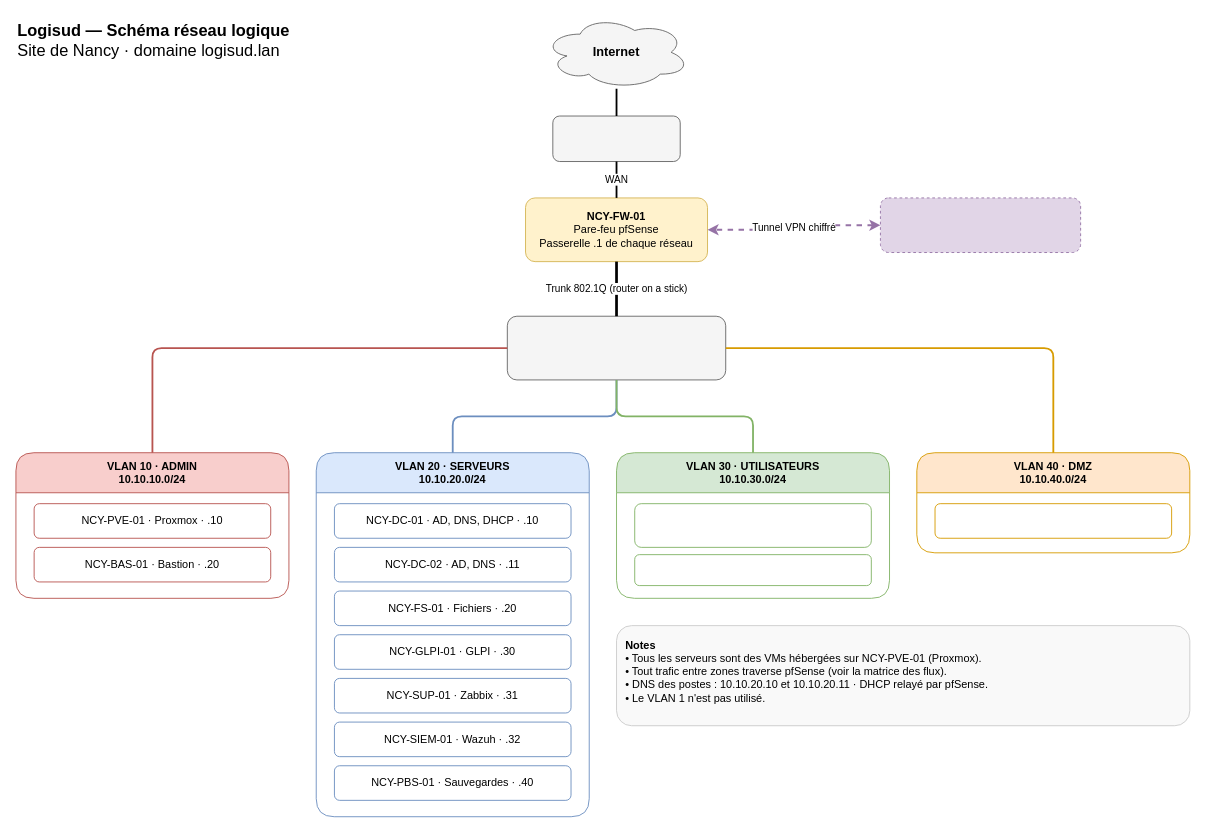
Some shapes in this 1206 by 833 pixel diagram are drawn without their labels. Each missing label, with the centre of its shape:
Box FAI 192.168.1.0/24: (x=616, y=138)
Commerciaux nomades VPN · 10.10.100.0/24: (x=980, y=225)
NCY-PC-001 à 040 · 40 postes DHCP .100 à .199: (x=752, y=525)
NCY-SW-01 Switch Cisco 2960 · 10.10.10.2 VLAN 999 PARKING : ports inutilisés: (x=616, y=347)
NCY-WEB-01 · Serveur web · .10: (x=1053, y=520)
Poste de l'administrateur: (x=752, y=570)
